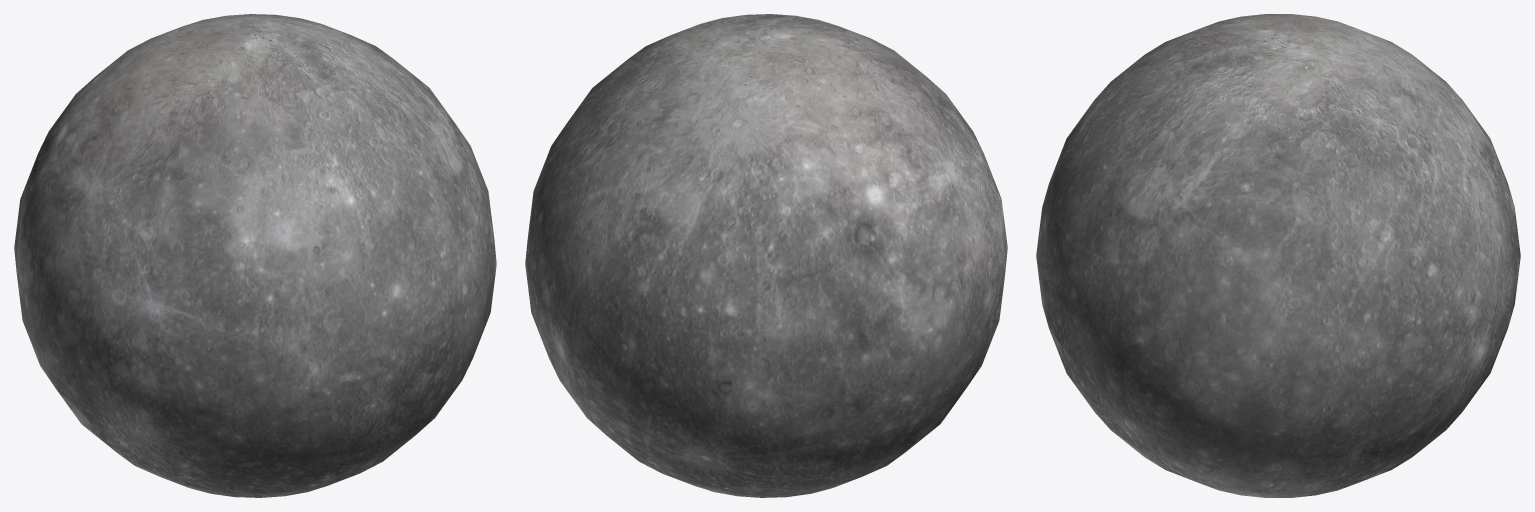
File: Mercury_01.fbx
The picture shows the model from 3 angles, left to right: view 1: azimuth 30°, elevation 25°; view 2: azimuth 150°, elevation 25°; view 3: azimuth 270°, elevation 25°; orthographic projection.
Parts seen in each view (by area): view 1: Mercury; view 2: Mercury; view 3: Mercury.
Boxes of the visible parts, box(x1,y1,x2,y2) form: Mercury: box(14, 14, 496, 497); Mercury: box(525, 14, 1007, 497); Mercury: box(1036, 14, 1520, 497).
Size of the model in its own units: 199 by 200 by 200.
Materials: 1 (1 with a texture image).
